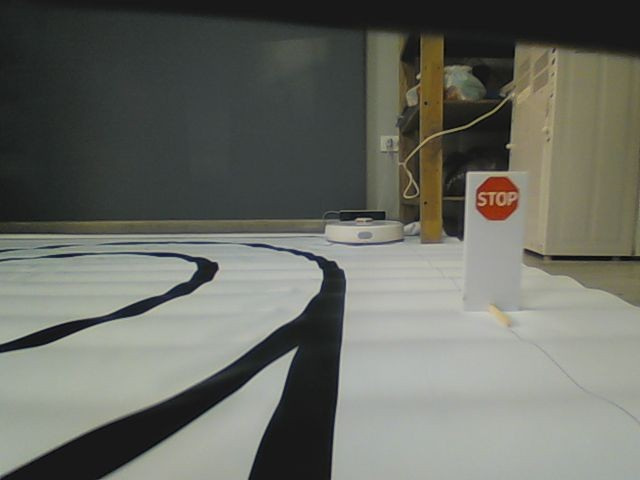Stop: (475, 174, 520, 221)
